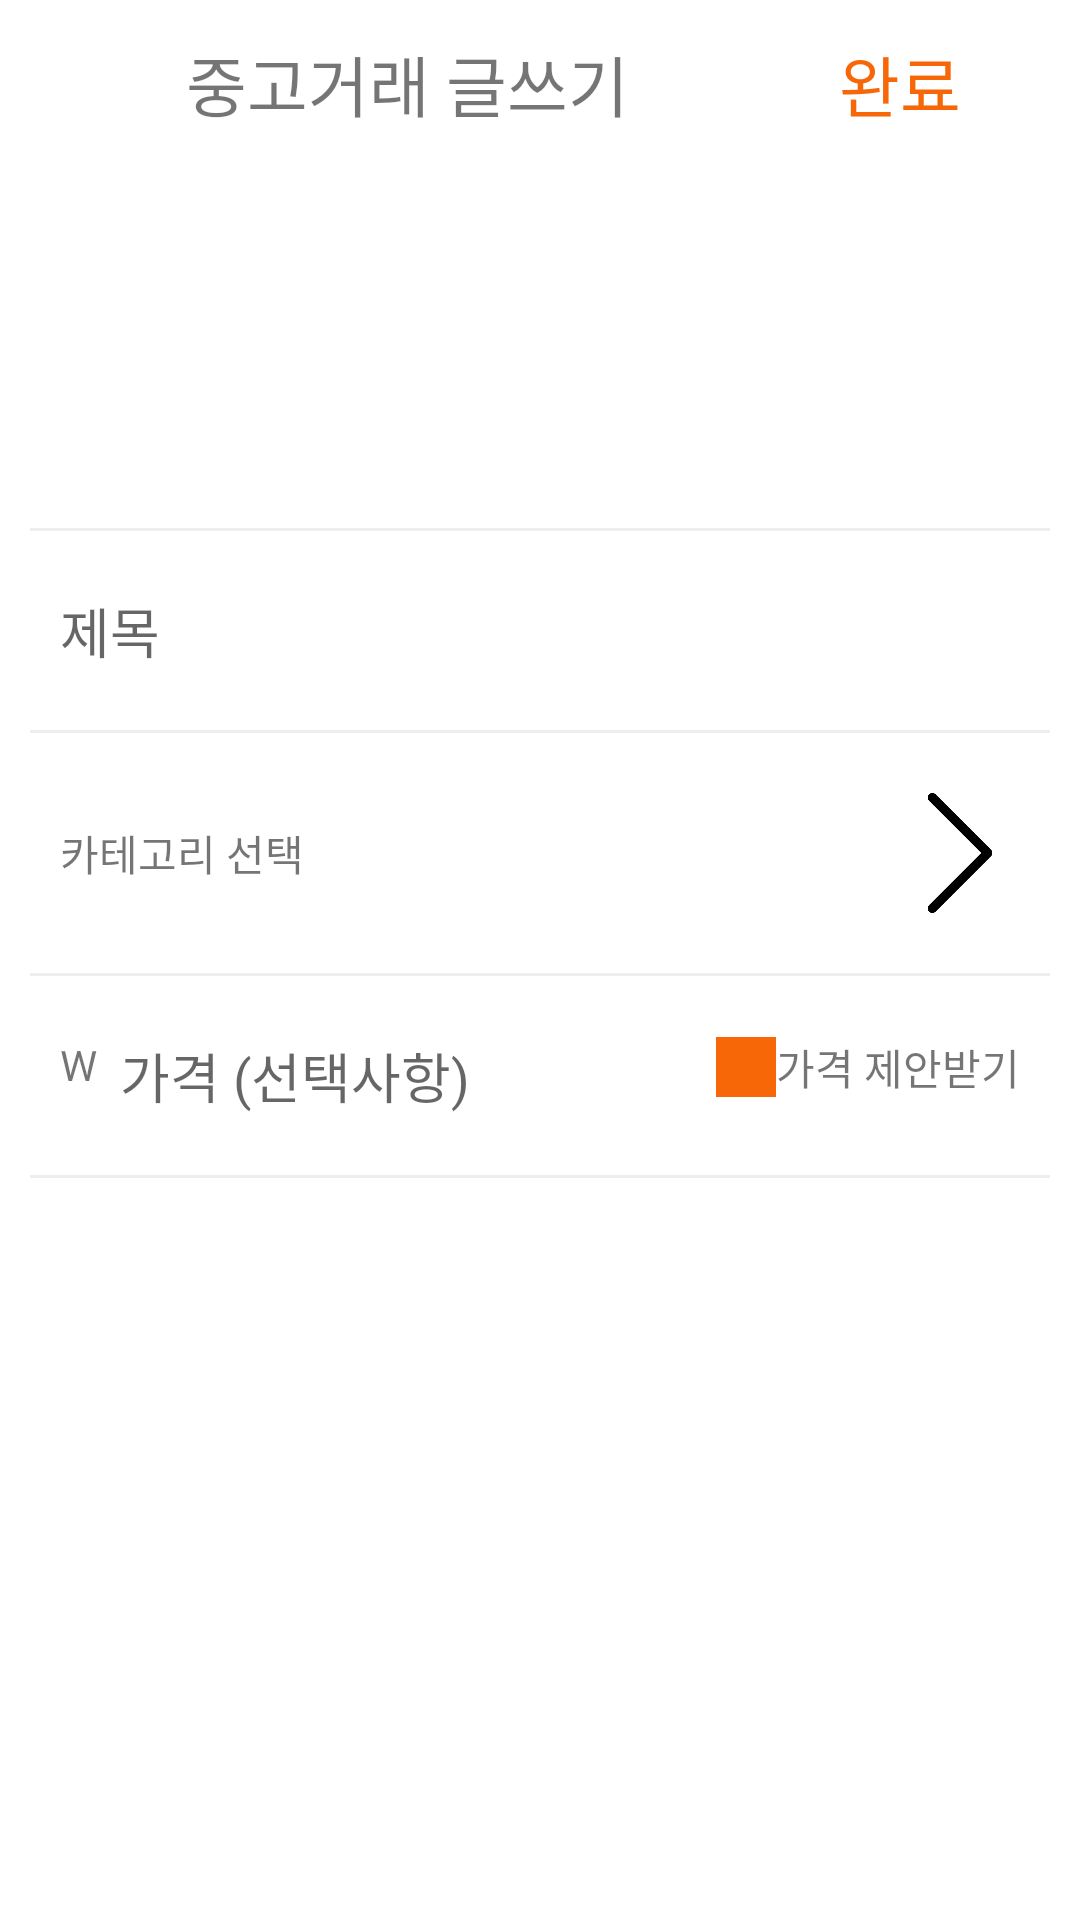

Locate icon controls on the screen. Image size 1080×1920, boxes as [left=x1, top=y1, right=x2, bottom=y2].
back reverse: [left=928, top=793, right=992, bottom=913]
